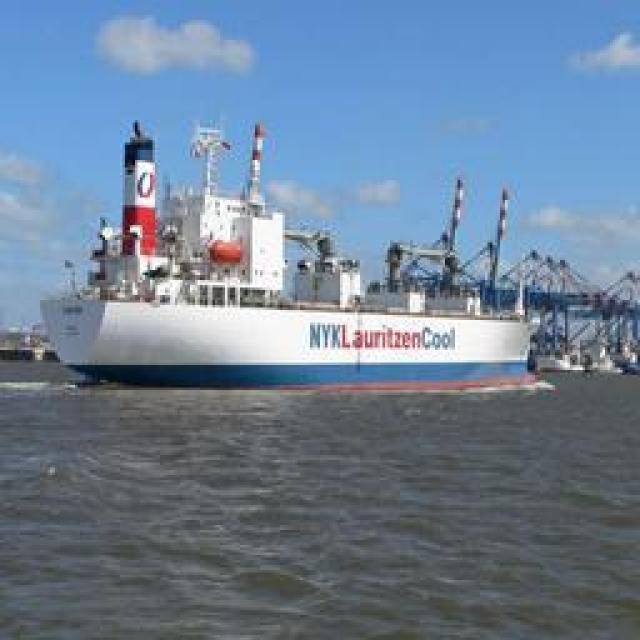ship2: (39, 119, 551, 396)
